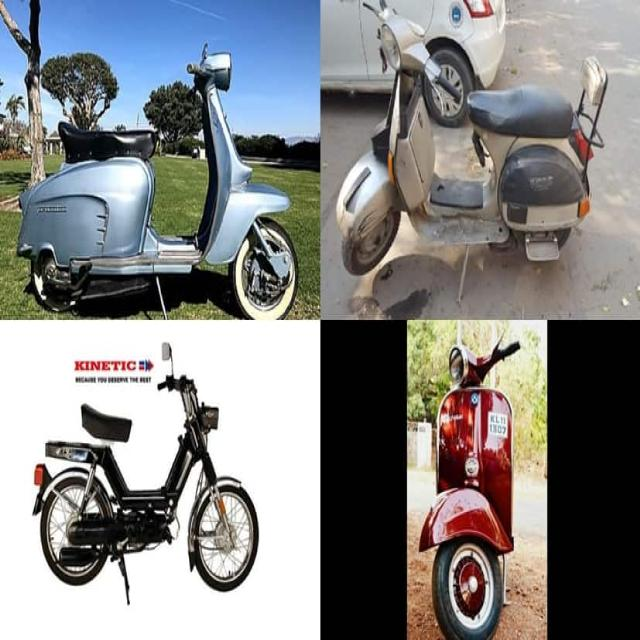motorcycle: (335, 0, 608, 305), (18, 49, 298, 317), (32, 373, 259, 603), (419, 326, 518, 640)
